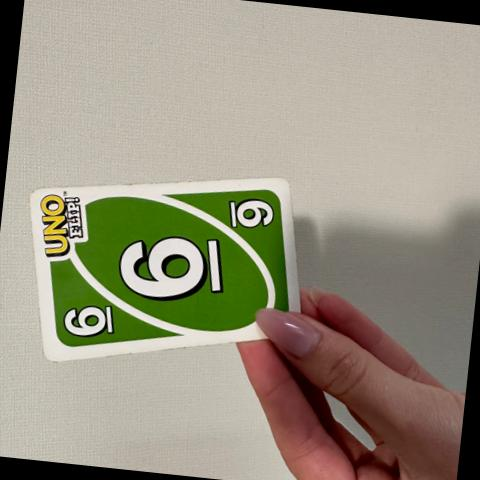9_green: (114, 237, 233, 298), (226, 196, 279, 232), (65, 301, 116, 337)
